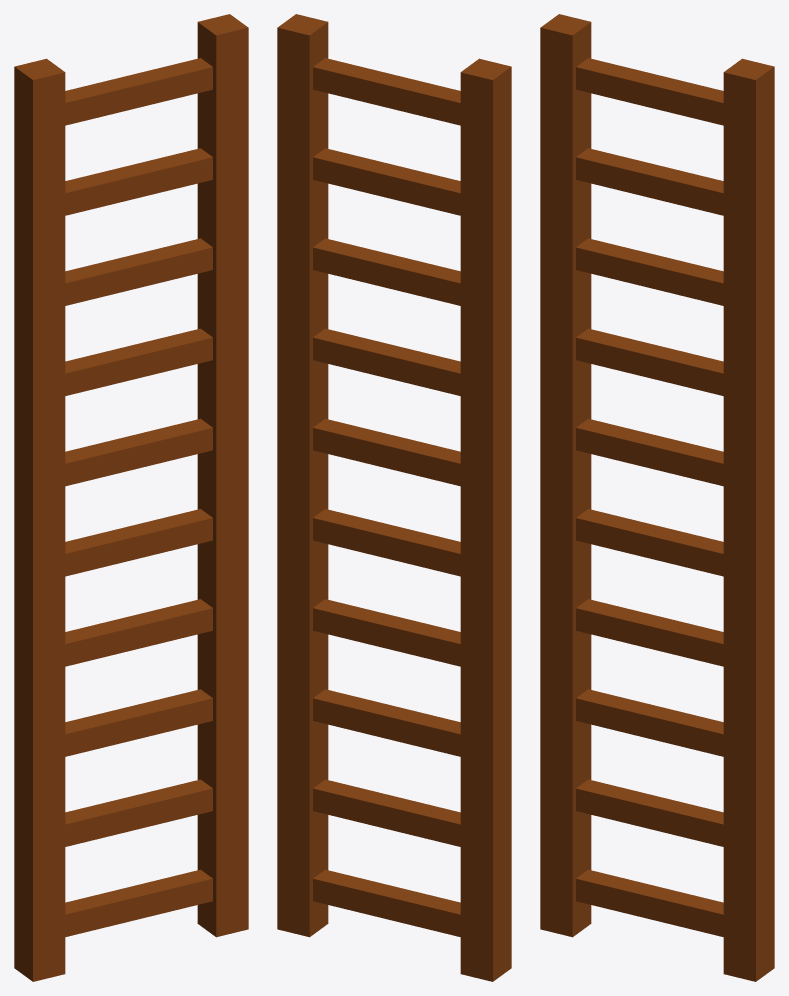
The model's file is Proto_Ladder_Wooden_01.fbx.
3 views of the same model, side by side, from view 1: azimuth 30°, elevation 25°; view 2: azimuth 150°, elevation 25°; view 3: azimuth 330°, elevation 25° (orthographic).
Visible parts, largest first — view 1: Proto_Ladder_Wooden_01; view 2: Proto_Ladder_Wooden_01; view 3: Proto_Ladder_Wooden_01.
Part boxes in pixels (left/top/right/bottom): Proto_Ladder_Wooden_01: left=14, top=14, right=248, bottom=981; Proto_Ladder_Wooden_01: left=277, top=14, right=511, bottom=981; Proto_Ladder_Wooden_01: left=540, top=14, right=774, bottom=981.
Size of the model in its own units: 0.5 by 2 by 0.075.
